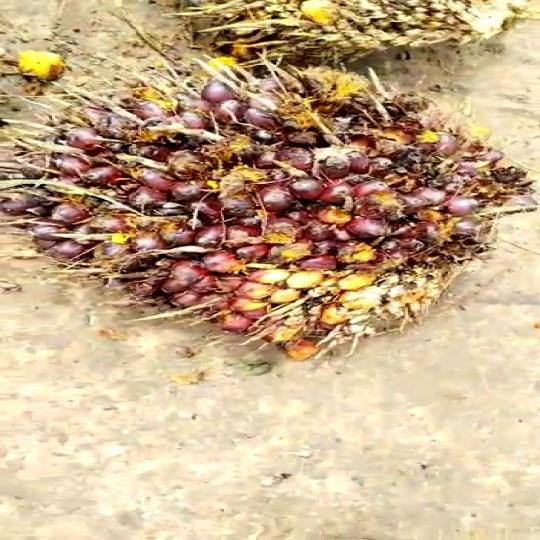masak: (0, 70, 540, 376)
